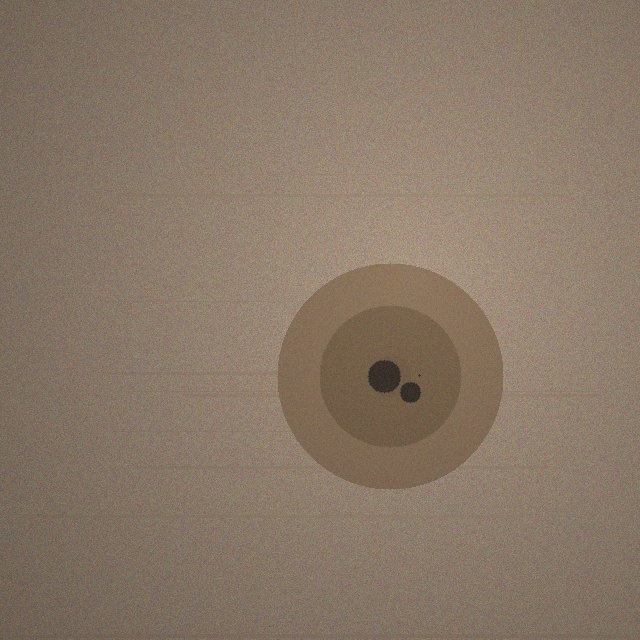shrinkage: (277, 263, 503, 489)
